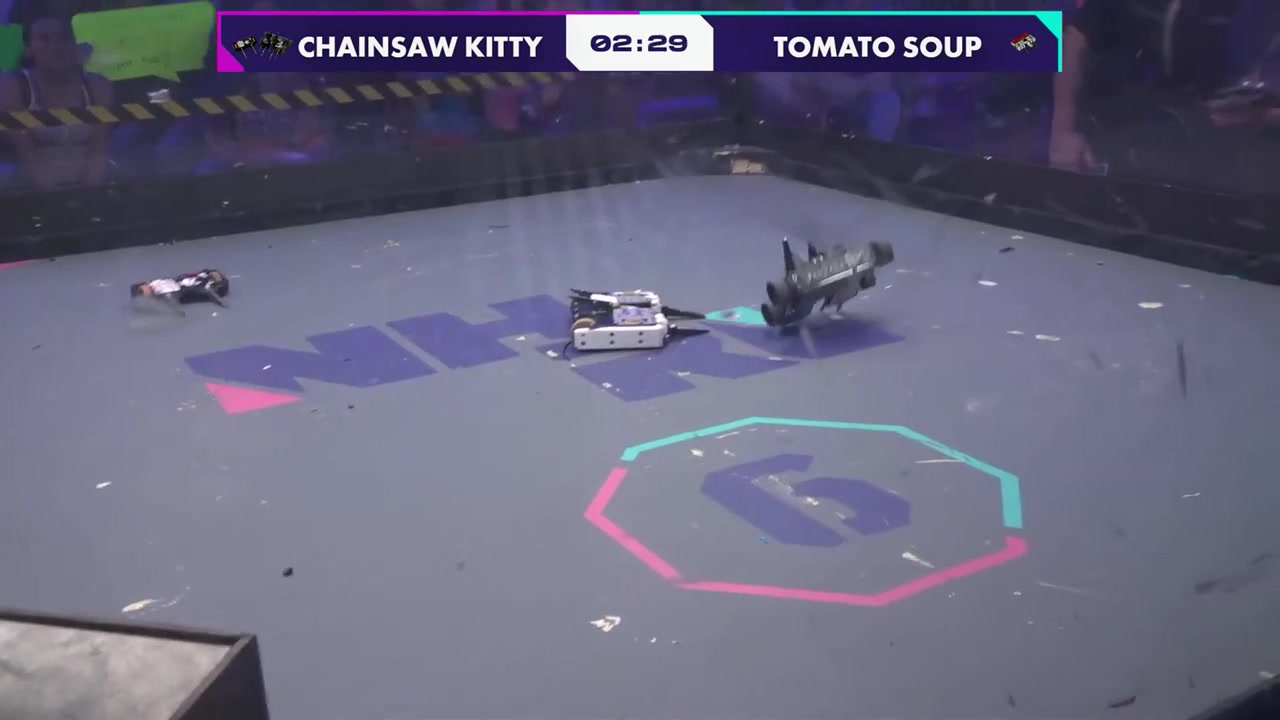combatbot: (756, 235, 897, 329), (570, 287, 669, 355)
housebot: (0, 599, 275, 720)
minibot: (129, 269, 233, 320)
